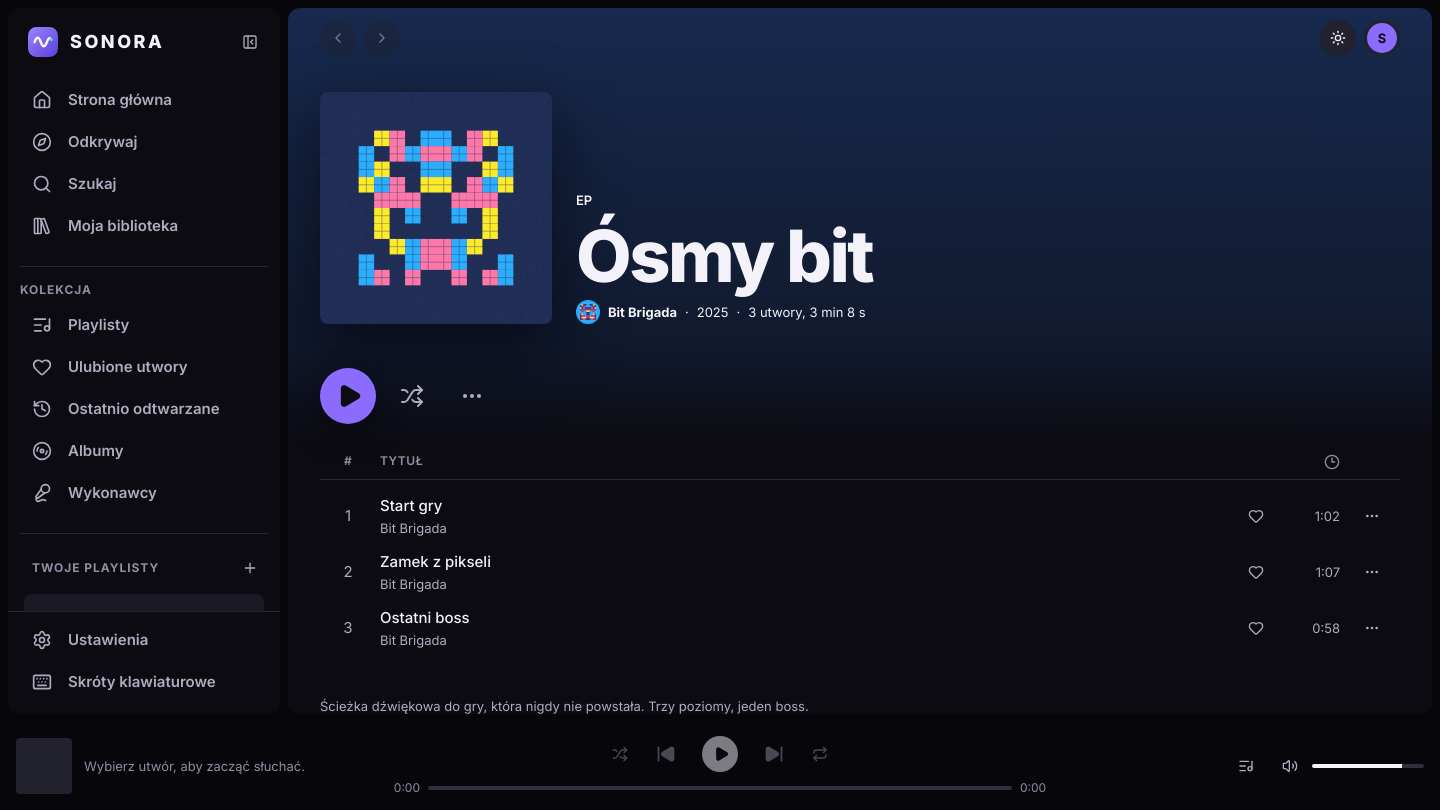
Test: kolejka odtwarzania › „Dodaj do kolejki” umieszcza utwór w sekcji „Następne w kolejce”
Step 1. Click the button named "Odtwórz: Ósmy bit" → (348, 396), box [320,368,376,424]
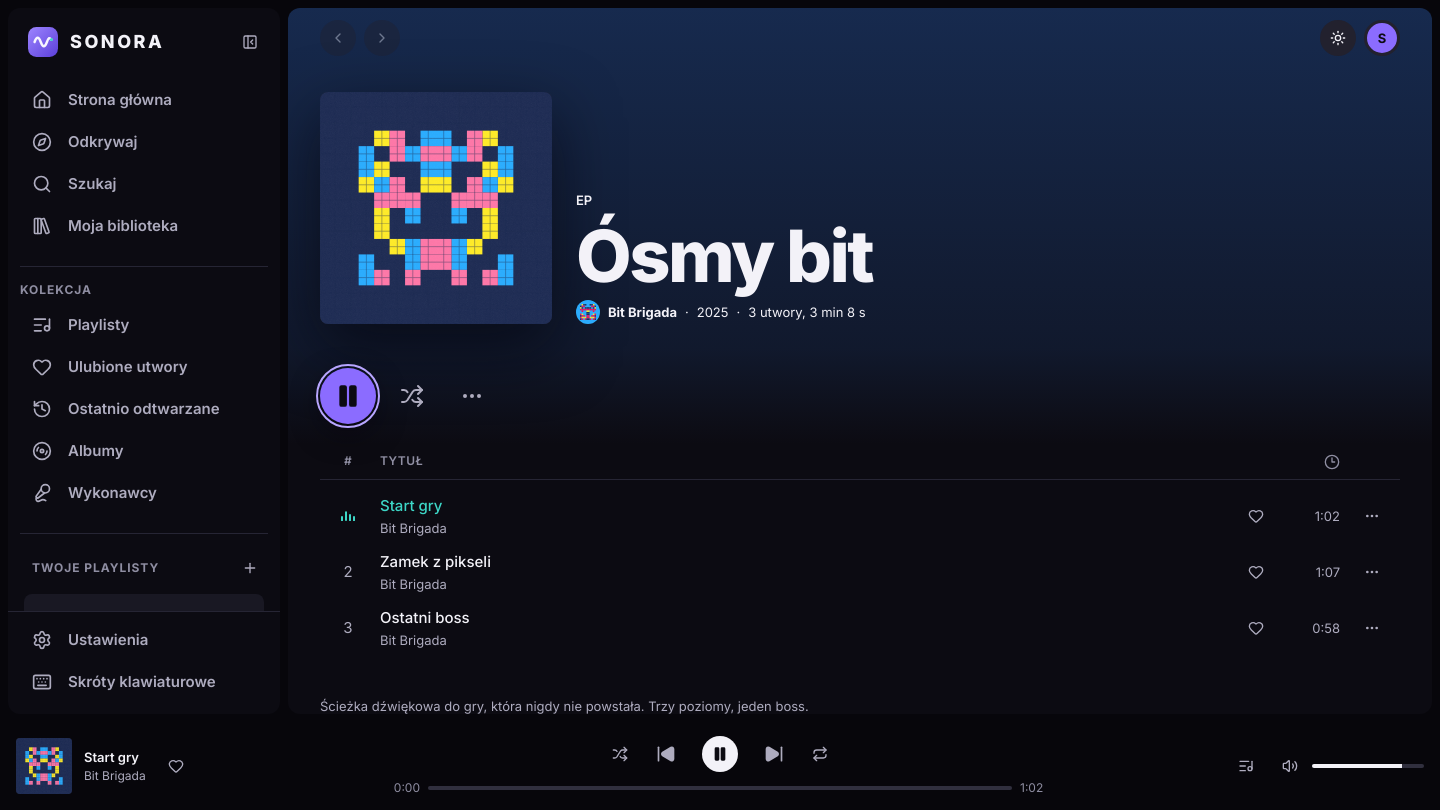
Step 2. Click the button named "Więcej opcji: Ostatni boss" → (1372, 628), box [1354,610,1390,646]
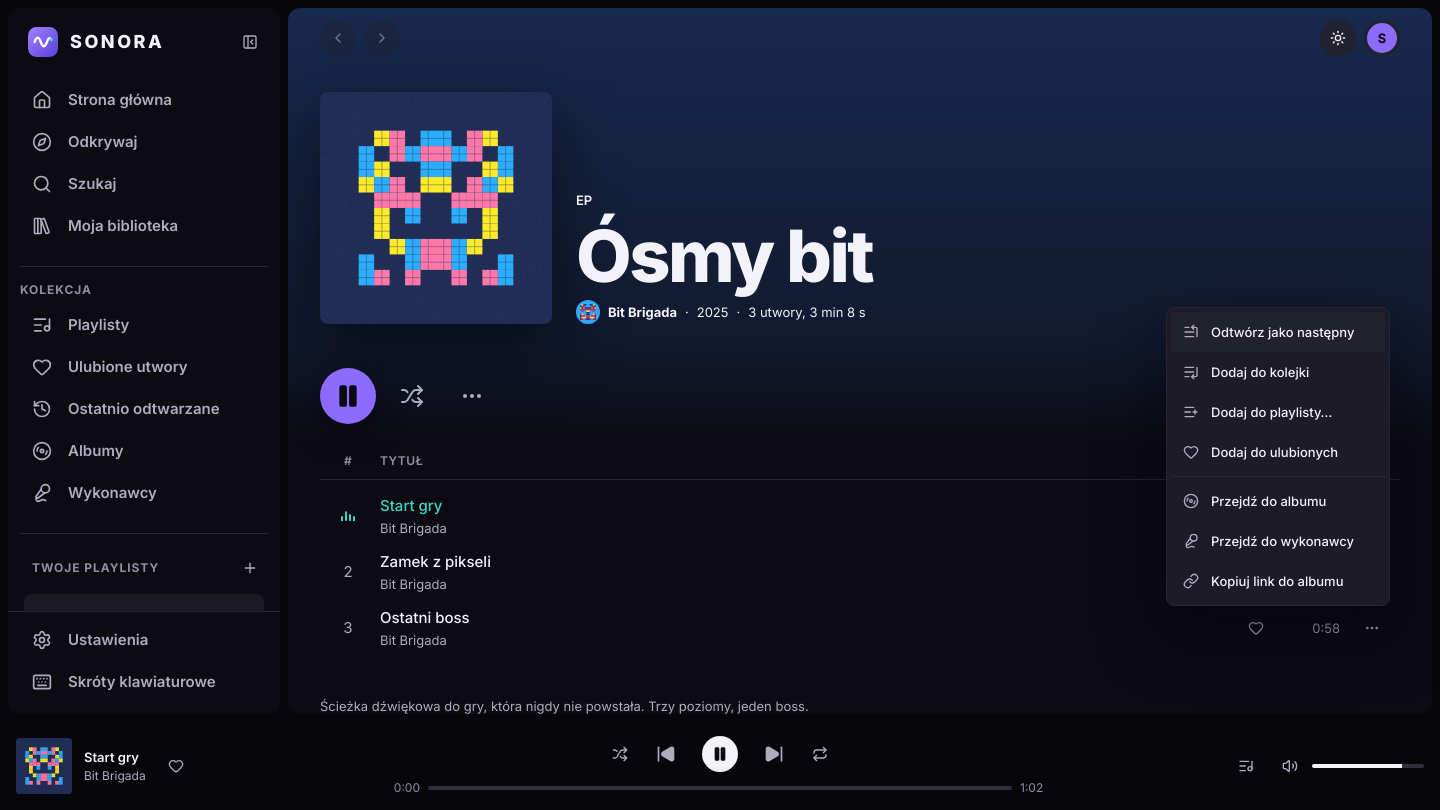
Step 3. Click the menu item "Dodaj do kolejki" → (1278, 372), box [1171,352,1385,392]
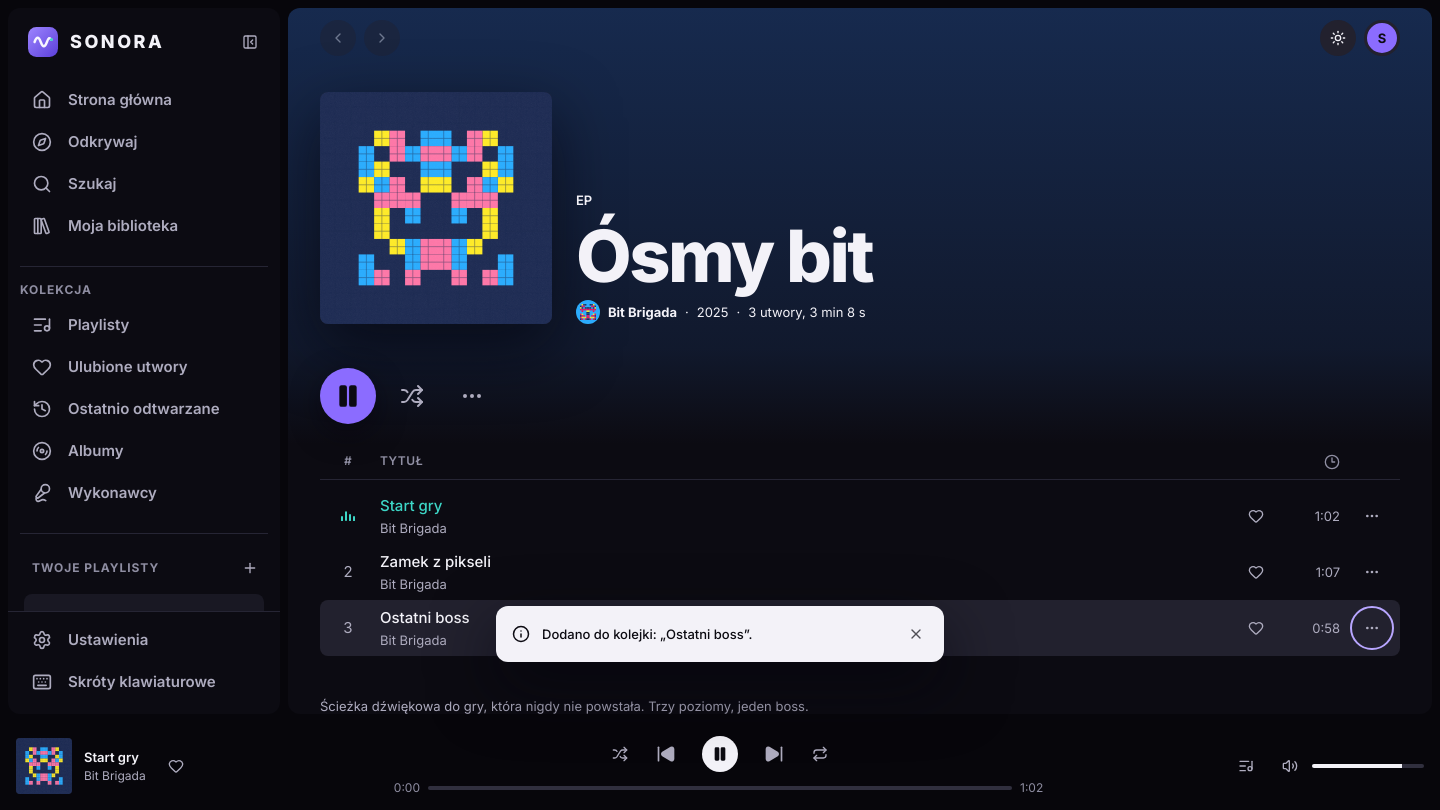
Step 4. Click the button named "Kolejka odtwarzania" → (1246, 766), box [1228,748,1264,784]
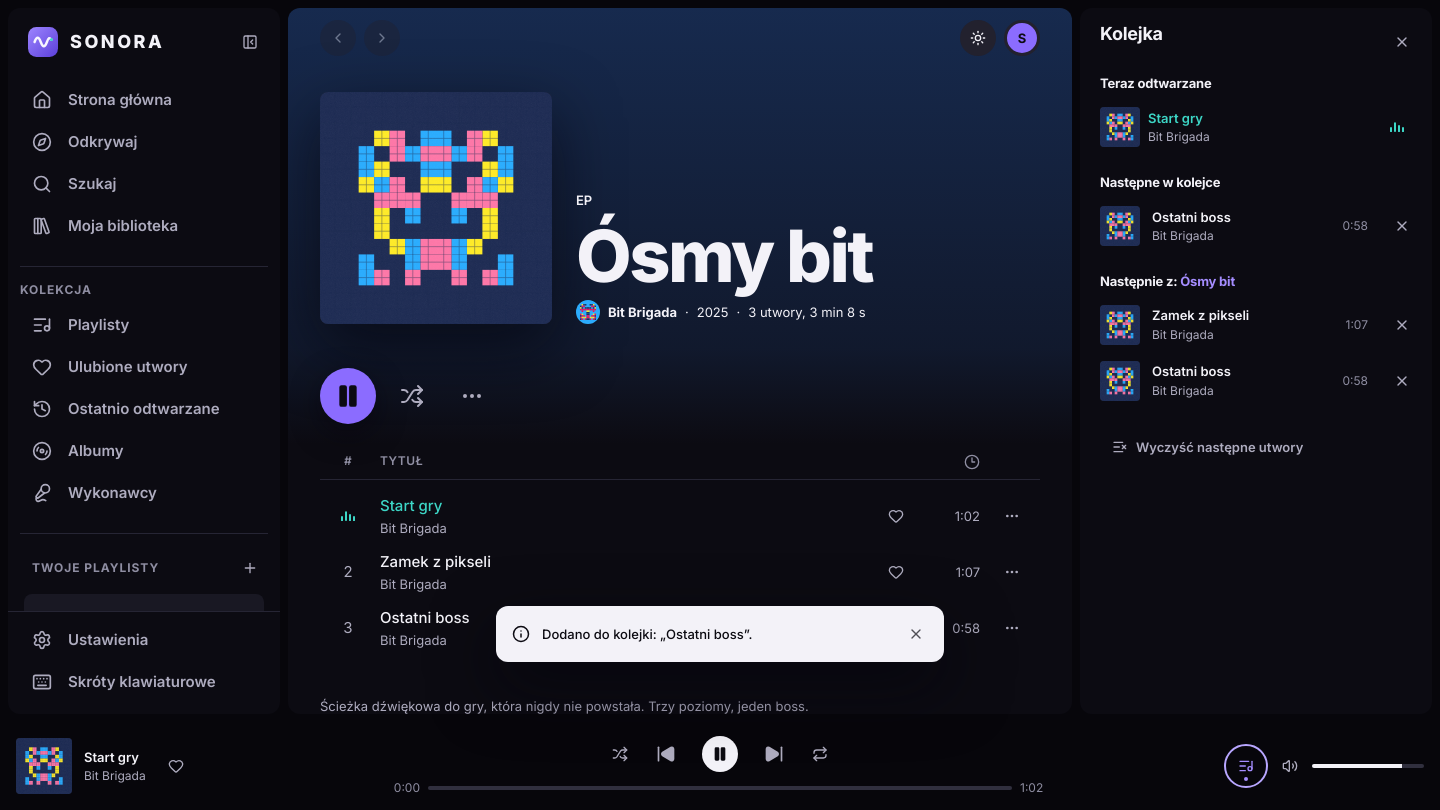
Expected: the element "Następne w kolejce" shows "Ostatni boss", [1092,198,1376,254]
